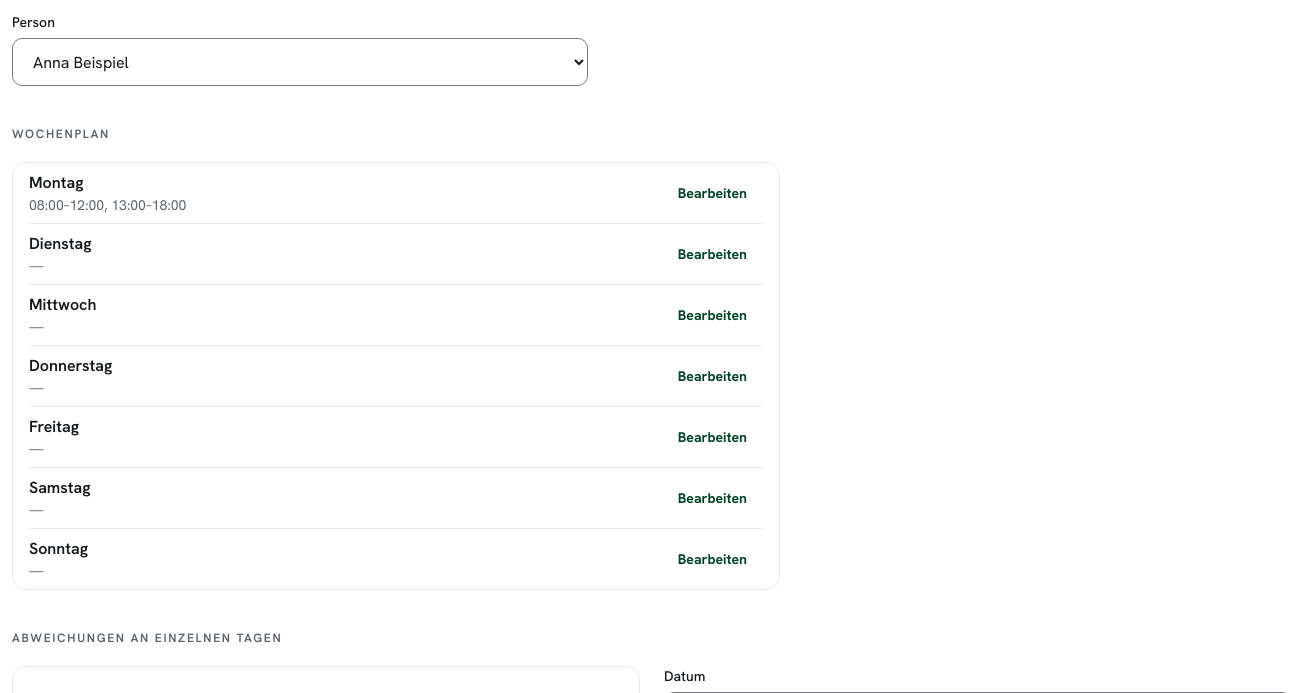
ArbeitszeitJePerson (ORG-003) › Wochenplan › wechselt mit der Person auch die angezeigten Zeiten
The width and height of the screenshot is (1304, 693).
Expected: the text "08:00–12:00, 13:00–18:00" is shown, x1=29 y1=196 x2=186 y2=214
Select "Tim Teamleitung" in the dropdown labelled "Person" at point(300, 62), box x1=12 y1=38 x2=588 y2=86
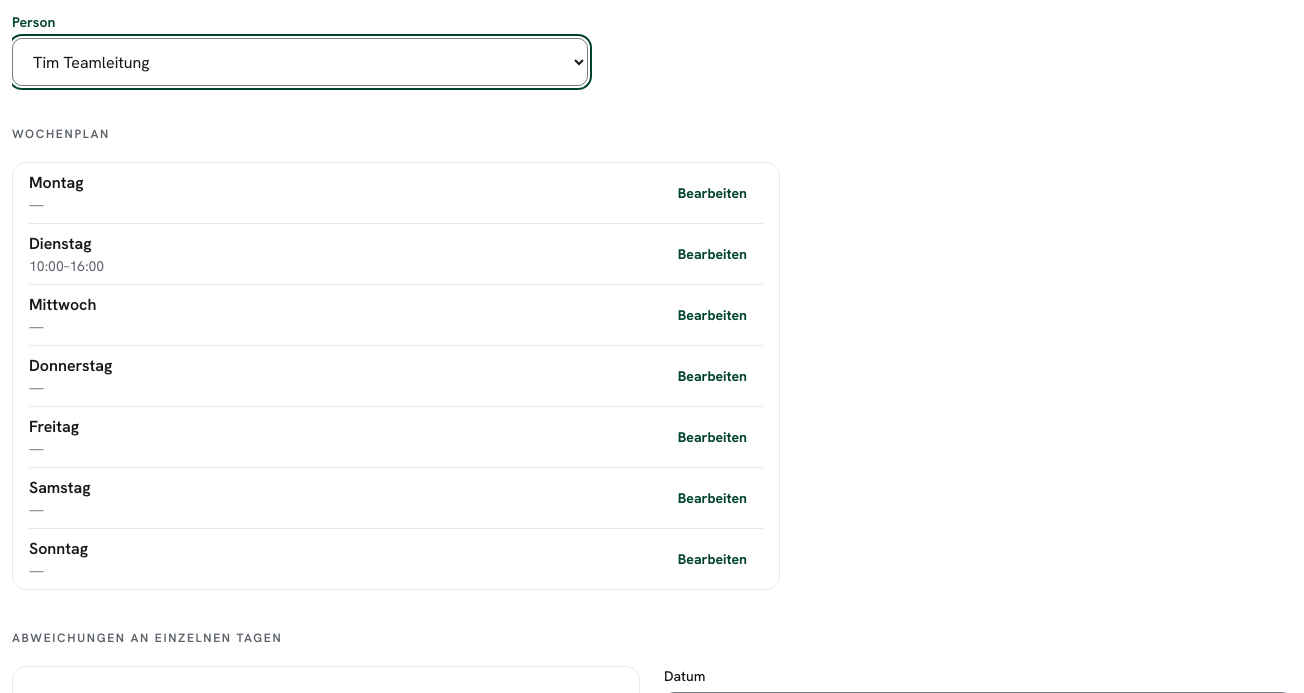
Expected: the text "10:00–16:00" is shown, x1=29 y1=257 x2=104 y2=275
Expected: the text "08:00–12:00, 13:00–18:00" is gone
